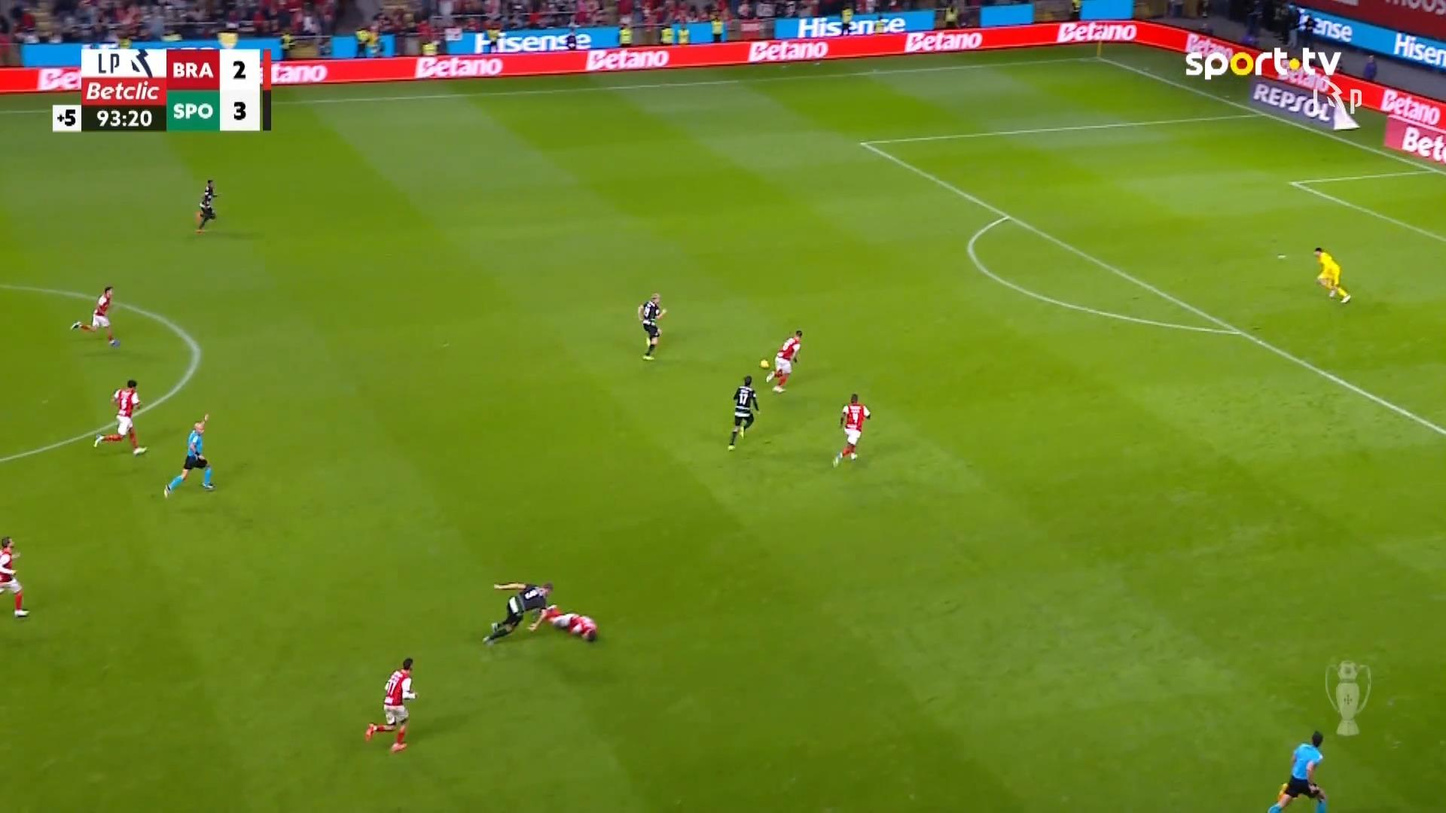ball: (759, 359, 768, 369)
goalkeeper: (1312, 246, 1351, 303)
player: (364, 656, 418, 752), (481, 579, 554, 645), (93, 378, 148, 455), (69, 284, 121, 348), (831, 392, 871, 467), (527, 603, 597, 642), (764, 328, 803, 392), (727, 375, 760, 450), (0, 535, 29, 617), (636, 291, 666, 360), (194, 178, 218, 233)
referee: (1267, 729, 1327, 811), (162, 412, 215, 498)
